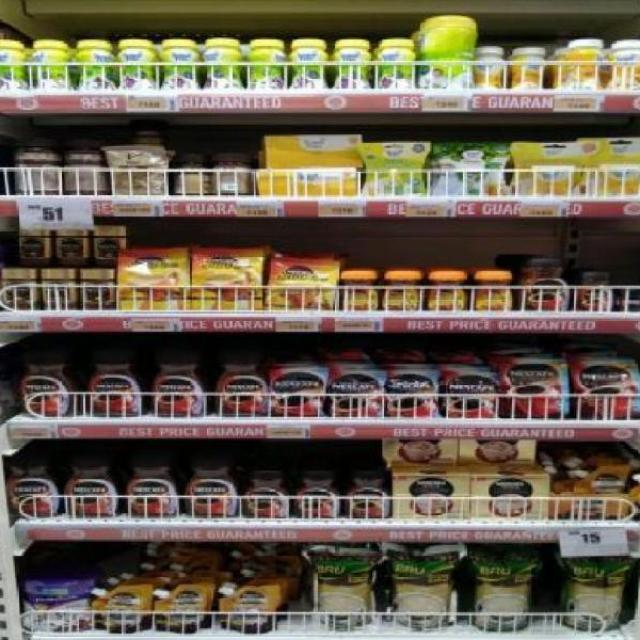Coffee: (80, 348, 147, 418), (145, 348, 212, 418), (211, 348, 274, 418), (17, 349, 80, 417), (119, 251, 190, 311), (192, 250, 261, 311), (571, 358, 640, 418), (501, 358, 568, 419), (181, 453, 241, 518), (123, 454, 183, 517), (63, 455, 123, 516), (5, 455, 62, 517), (270, 258, 337, 310), (517, 257, 574, 311), (340, 470, 394, 518), (272, 370, 324, 417), (330, 370, 382, 417), (242, 470, 291, 519), (446, 373, 496, 419), (295, 470, 342, 518), (387, 371, 436, 417), (469, 271, 514, 311), (339, 270, 382, 310), (384, 272, 426, 311), (427, 272, 469, 310), (43, 268, 81, 309), (79, 268, 117, 308), (2, 267, 37, 310), (578, 272, 616, 310), (55, 229, 91, 266), (93, 226, 124, 266), (17, 229, 50, 266), (622, 287, 640, 313)
